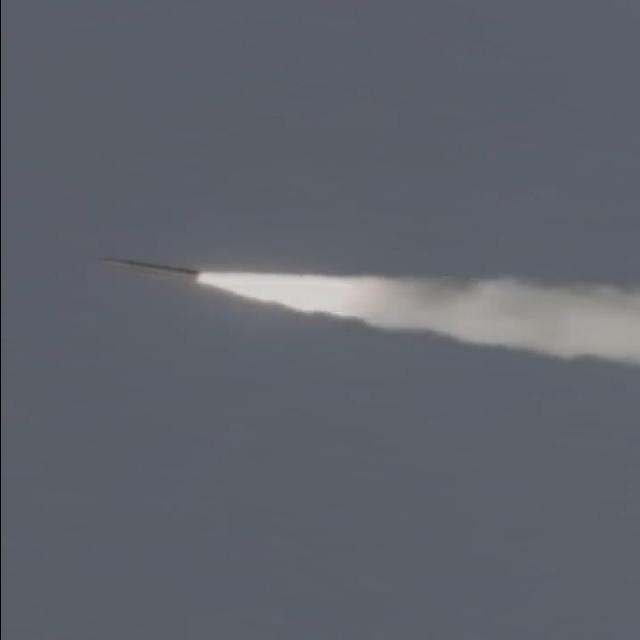missile: (102, 255, 200, 286)
